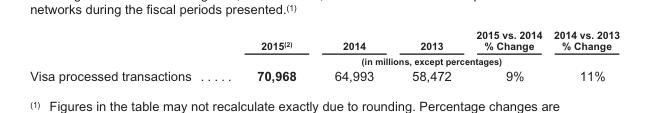table: (29, 28, 618, 82)
table column: (29, 28, 223, 82), (223, 28, 314, 82), (463, 28, 547, 82), (314, 28, 392, 82), (392, 28, 463, 82), (547, 28, 618, 82)
table column header: (29, 28, 618, 66)
table row: (29, 28, 618, 53), (29, 66, 618, 82), (29, 53, 618, 66)
table spanning cell: (223, 53, 618, 66)
